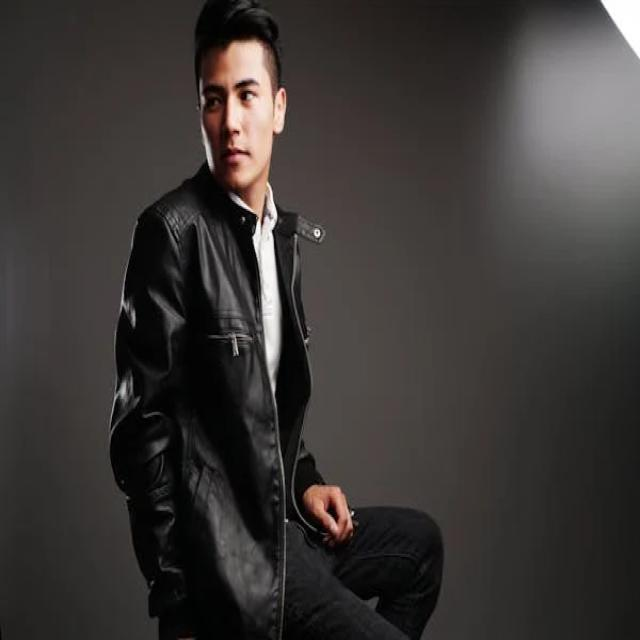Real human 2: (100, 1, 466, 640)
